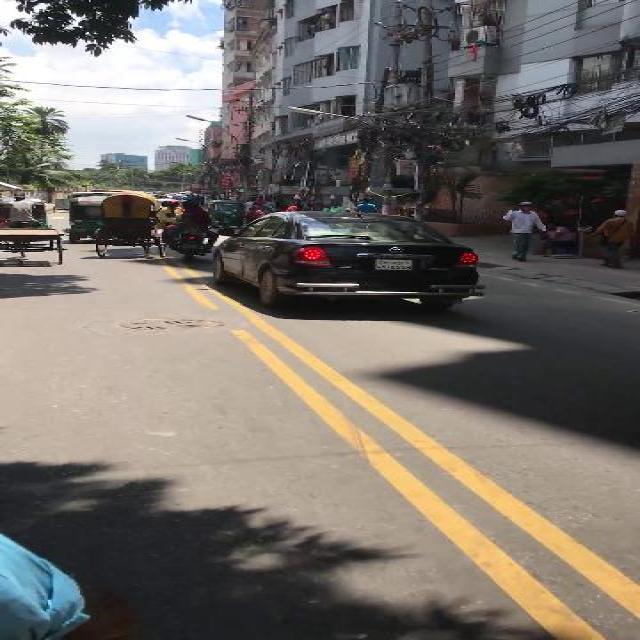car: (208, 210, 489, 310)
motorbike: (162, 199, 218, 263)
rickshaw: (91, 190, 165, 258), (0, 190, 62, 267)
three wheelers -CNG-: (68, 194, 103, 242), (209, 198, 243, 228)
